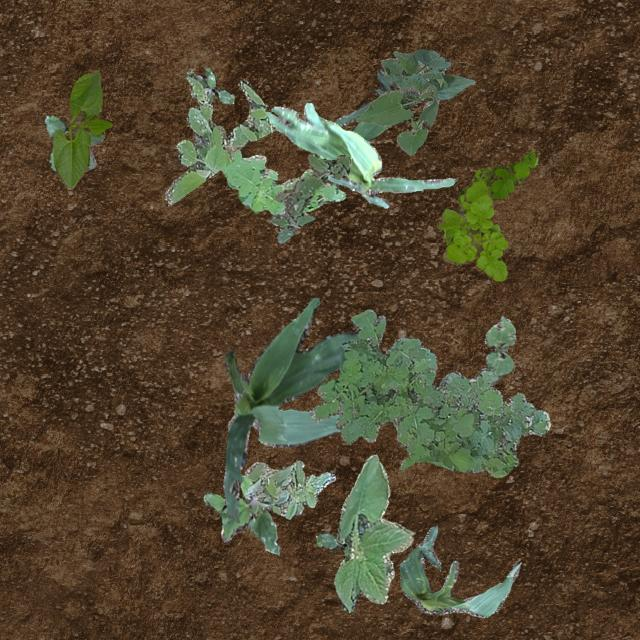crop: (222, 296, 358, 522), (264, 102, 454, 206), (354, 48, 474, 154), (332, 454, 412, 612), (398, 526, 518, 616), (329, 68, 398, 188), (52, 70, 112, 188), (484, 314, 514, 384)
weed: (308, 308, 550, 476), (164, 70, 272, 204), (444, 150, 536, 243), (220, 148, 344, 214), (268, 152, 349, 242), (437, 178, 508, 280), (202, 474, 280, 554), (243, 460, 334, 518), (44, 114, 104, 170), (190, 66, 233, 104), (314, 532, 348, 556)
